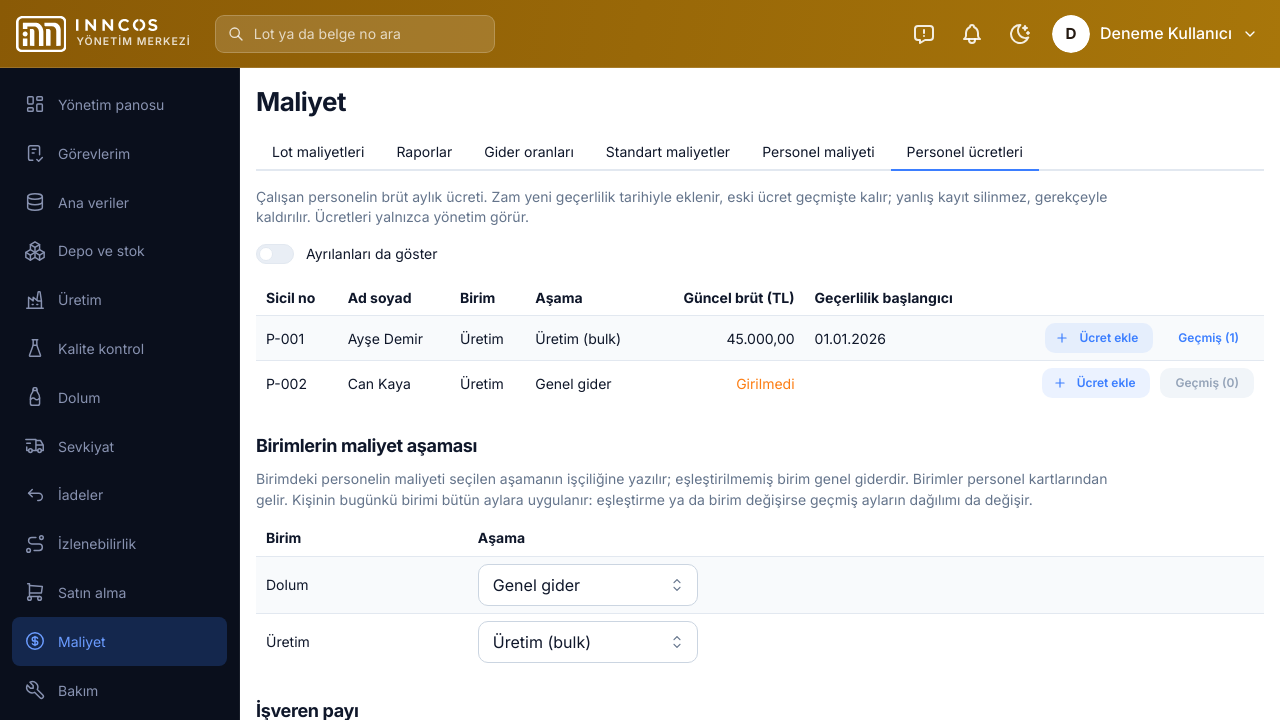
Test case: personel ücretleri › ilk ücretin başlangıcı işe giriş tarihidir
What coordinates should you click on to do the following:
click the button with aria-label "Ücret ekle: Can Kaya"
I would click on:
 (1096, 383)
Its box is left=1042, top=368, right=1150, bottom=398.
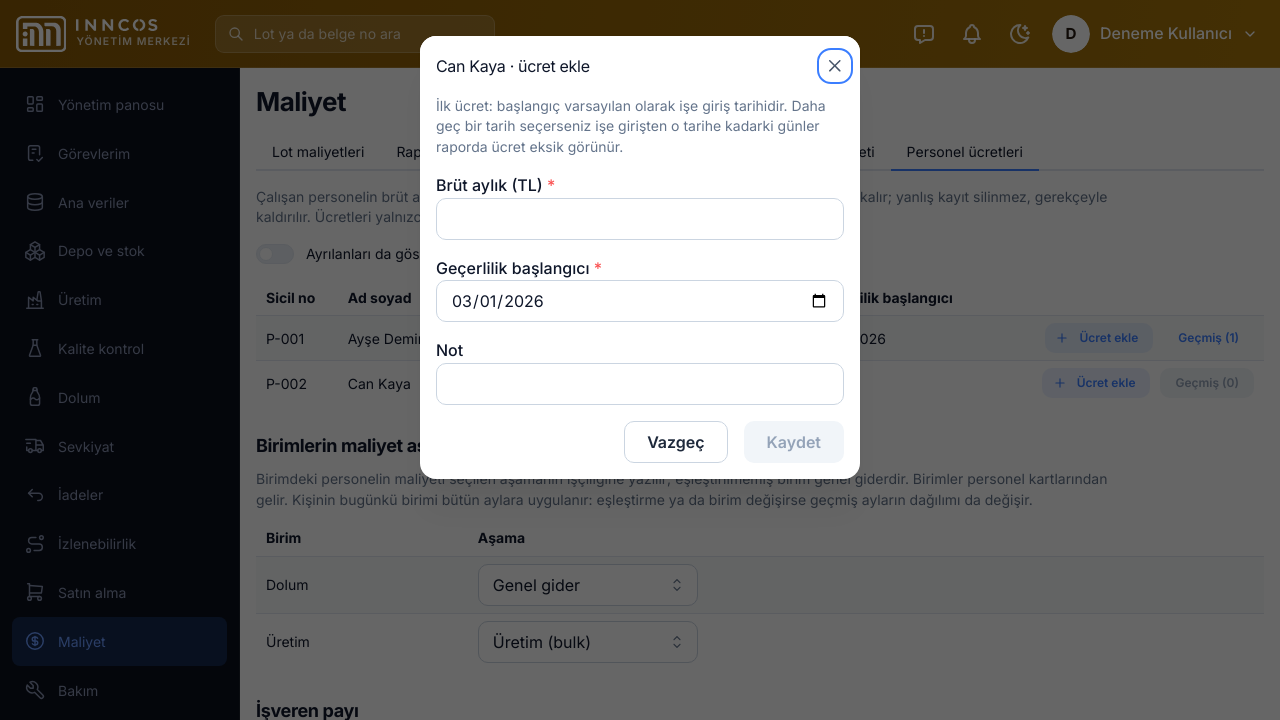
Expected: the text "İlk ücret: başlangıç varsayılan olarak işe giriş" is shown, left=436, top=97, right=826, bottom=155
Expected: the date field labelled "Geçerlilik başlangıcı *" holds "2026-03-01", left=436, top=280, right=844, bottom=322
